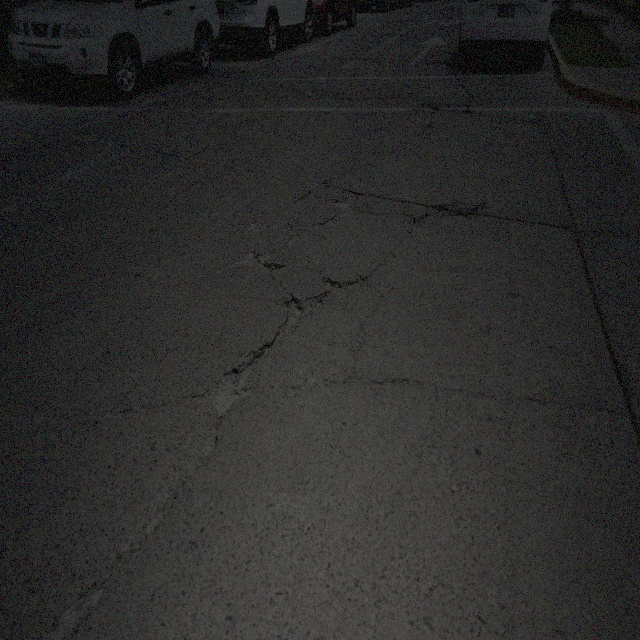pothole: (212, 345, 264, 423), (283, 289, 322, 338), (332, 192, 357, 222), (250, 252, 285, 272), (322, 274, 341, 301), (405, 213, 429, 232), (297, 187, 315, 203)
